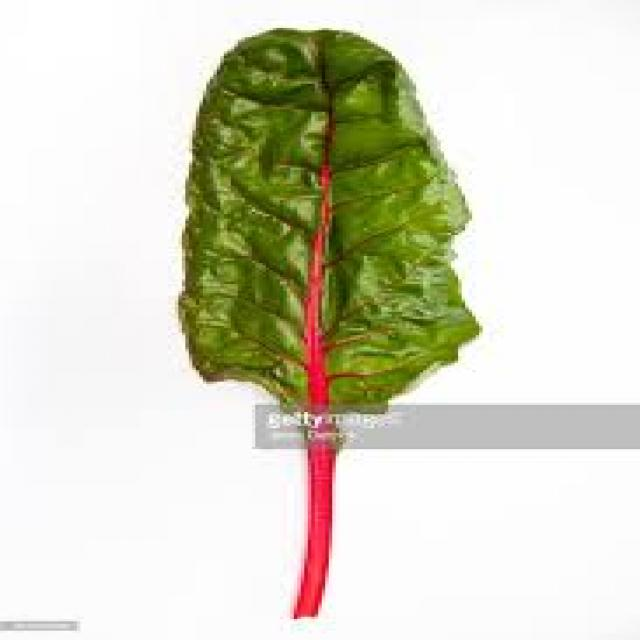organic waste: (171, 26, 476, 616)
